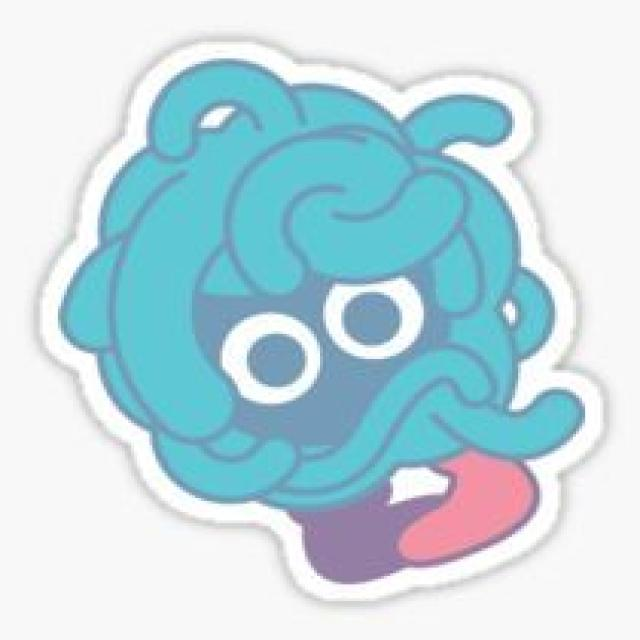Tangela: (50, 41, 609, 601)
